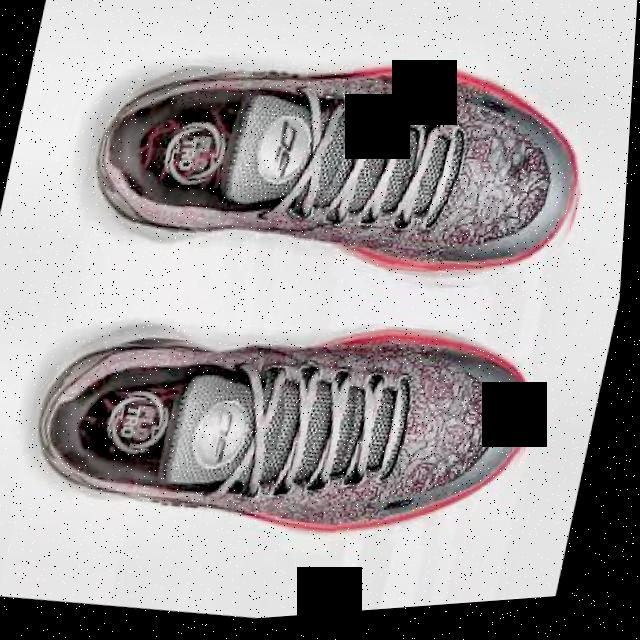shoe: (66, 7, 613, 342), (12, 270, 559, 593)
